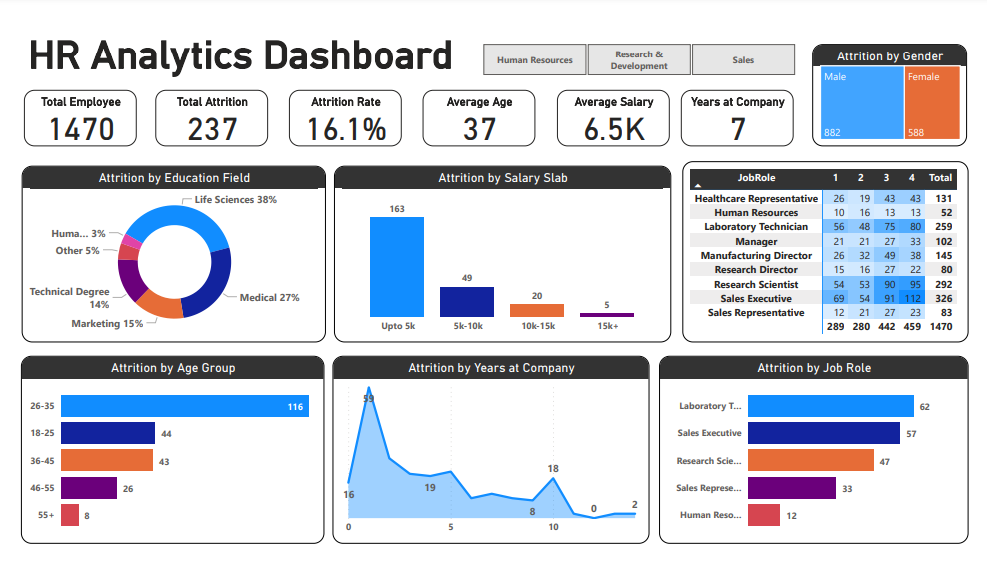

The dashboard page shown, as its layout file describes it:
{"tool":"powerbi","page":{"name":"Dashboard","canvas":[1280,720],"ordinal":0},"visuals":[{"type":"card","title":"Total Employee","fields":{"Values":["Sum(HR_Analytics.EmployeeCount)"]},"box":[11.7,101.4,150,75],"z":0},{"type":"card","title":"Total Attrition","fields":{"Values":["CountNonNull(HR_Analytics.Attrition)"]},"box":[186.7,101.4,150,75],"z":1000},{"type":"card","title":"Attrition Rate","fields":{"Values":["HR_Analytics.AttritionRate"]},"box":[365,101.4,150,75],"z":2000},{"type":"card","title":"Average Age","fields":{"Values":["Avg(HR_Analytics.Age)"]},"box":[543.3,101.4,150,75],"z":3000},{"type":"card","title":"Average Salary","fields":{"Values":["Avg(HR_Analytics.MonthlyIncome)"]},"box":[721.7,101.4,150,75],"z":4000},{"type":"card","title":"Years at Company","fields":{"Values":["Avg(HR_Analytics.YearsAtCompany)"]},"box":[886.7,101.1,150,75],"z":5000},{"type":"donutChart","title":"Attrition by Education Field","fields":{"Y":["Sum(HR_Analytics.AttritionCount)"],"Category":["HR_Analytics.EducationField"]},"box":[8.7,202.2,405,235],"z":6000},{"type":"columnChart","title":"Attrition by Salary Slab","fields":{"Category":["HR_Analytics.SalarySlab"],"Y":["Sum(HR_Analytics.AttritionCount)"]},"box":[425.4,202.2,448.3,235],"z":7000},{"type":"pivotTable","fields":{"Rows":["HR_Analytics.JobRole"],"Columns":["HR_Analytics.JobSatisfaction"],"Values":["CountNonNull(HR_Analytics.Attrition)"]},"box":[888.7,195.5,381.7,241.7],"z":8000},{"type":"barChart","title":"Attrition by Age Group","fields":{"Y":["Sum(HR_Analytics.AttritionCount)"],"Category":["HR_Analytics.AgeGroup"]},"box":[8.3,455,403.3,250],"z":9000},{"type":"barChart","title":"Attrition by Job Role","fields":{"Y":["Sum(HR_Analytics.AttritionCount)"],"Category":["HR_Analytics.JobRole"]},"box":[858.3,455,411.7,250],"z":10000},{"type":"areaChart","title":"Attrition by Years at Company","fields":{"Category":["HR_Analytics.YearsAtCompany"],"Y":["Sum(HR_Analytics.AttritionCount)"]},"box":[423.3,455.2,421.7,250],"z":11000},{"type":"treemap","title":"Attrition by Gender","fields":{"Group":["HR_Analytics.Gender"],"Values":["CountNonNull(HR_Analytics.Attrition)"]},"box":[1061.7,39.4,206.7,136.7],"z":12000},{"type":"slicer","fields":{"Values":["HR_Analytics.Department"]},"box":[598.3,31.7,465,53.3],"z":13000},{"type":"textbox","box":[13.3,18.3,585,80],"z":14000}]}

Visuals, with their boxes in screenshot pixels (x1, y1, x2, y2), scaled from the page's 1280x720 canvas onto the 987x561 screenshot:
"Total Employee" card: x1=9 y1=79 x2=125 y2=137
"Total Attrition" card: x1=144 y1=79 x2=260 y2=137
"Attrition Rate" card: x1=281 y1=79 x2=397 y2=137
"Average Age" card: x1=419 y1=79 x2=535 y2=137
"Average Salary" card: x1=556 y1=79 x2=672 y2=137
"Years at Company" card: x1=684 y1=79 x2=799 y2=137
"Attrition by Education Field" donutChart: x1=7 y1=158 x2=319 y2=341
"Attrition by Salary Slab" columnChart: x1=328 y1=158 x2=674 y2=341
pivotTable - HR_Analytics.JobRole x HR_Analytics.JobSatisfaction: x1=685 y1=152 x2=980 y2=341
"Attrition by Age Group" barChart: x1=6 y1=355 x2=317 y2=549
"Attrition by Job Role" barChart: x1=662 y1=355 x2=979 y2=549
"Attrition by Years at Company" areaChart: x1=326 y1=355 x2=652 y2=549
"Attrition by Gender" treemap: x1=819 y1=31 x2=978 y2=137
slicer - HR_Analytics.Department: x1=461 y1=25 x2=820 y2=66
textbox: x1=10 y1=14 x2=461 y2=77
